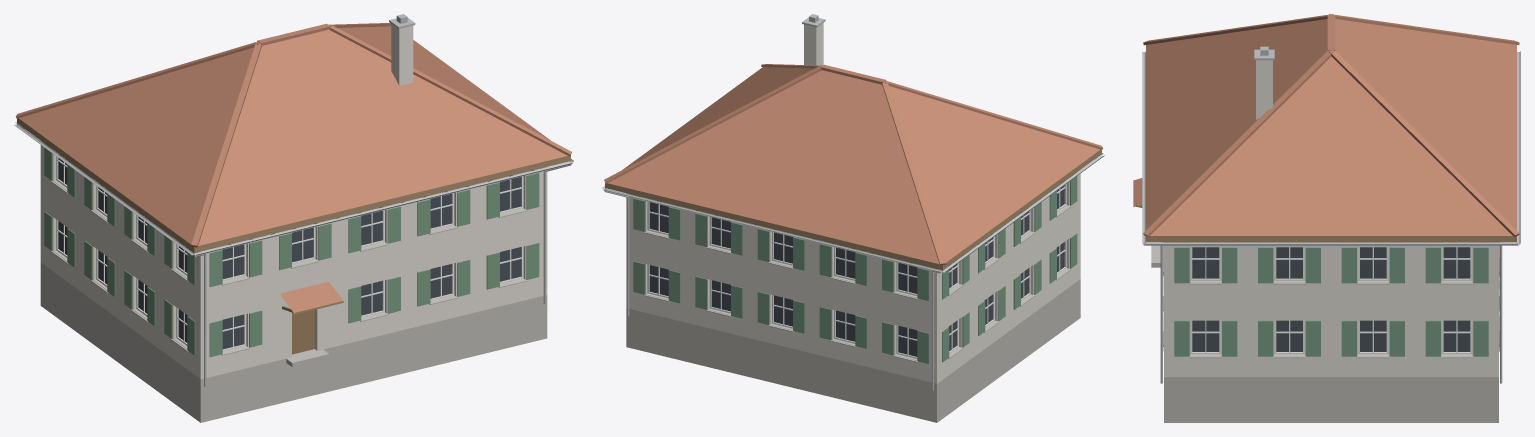
File: house_hipped_2_l.glb
The picture shows the model from 3 angles, left to right: view 1: azimuth 30°, elevation 25°; view 2: azimuth 150°, elevation 25°; view 3: azimuth 270°, elevation 25°; orthographic projection. The views are drawn at different scales.
Visible parts, largest first — view 1: house_hipped_2_l; view 2: house_hipped_2_l; view 3: house_hipped_2_l.
Part boxes in pixels (<box>): house_hipped_2_l: <box>14,14,573,422</box>; house_hipped_2_l: <box>602,14,1104,422</box>; house_hipped_2_l: <box>1133,14,1520,422</box>.
Size of the model in its own units: 16.56 by 12.85 by 13.88.
